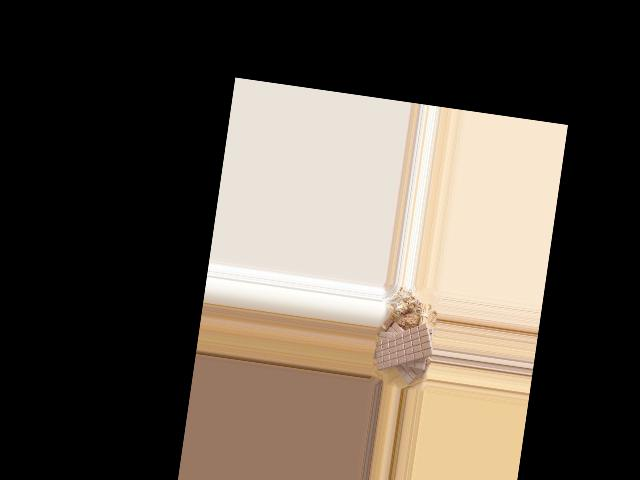chocolate: (373, 313, 436, 378)
